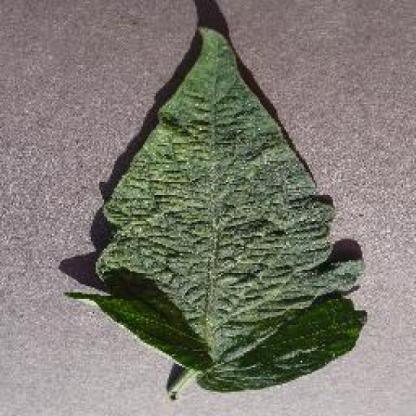Tomato_Spider_Mites: (67, 26, 367, 390)
